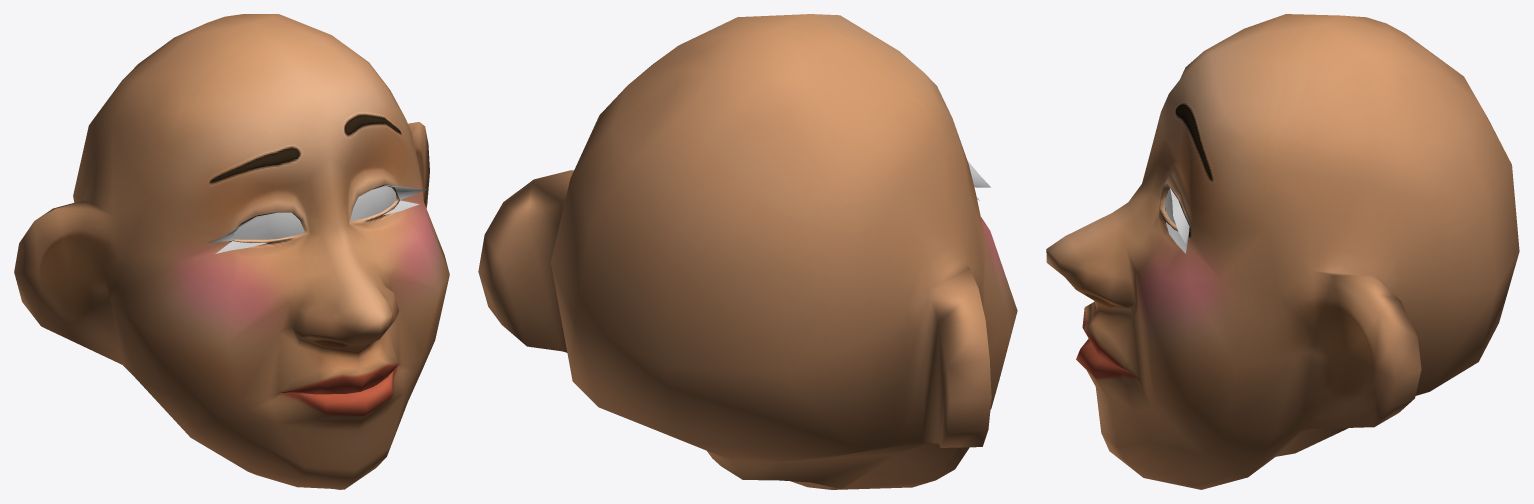
File: F_pose15.fbx
3 renders of one model, left to right at view 1: azimuth 30°, elevation 25°; view 2: azimuth 150°, elevation 25°; view 3: azimuth 270°, elevation 25°, orthographic. The views are drawn at different scales.
Visible parts, largest first — view 1: HEAD; view 2: HEAD; view 3: HEAD.
Boxes of the visible parts, bbox=[...] form: HEAD: bbox=[14, 14, 449, 489]; HEAD: bbox=[478, 14, 1017, 489]; HEAD: bbox=[1046, 14, 1519, 489].
Bounding box in the file's own units: 27.45 × 25.51 × 24.63.
